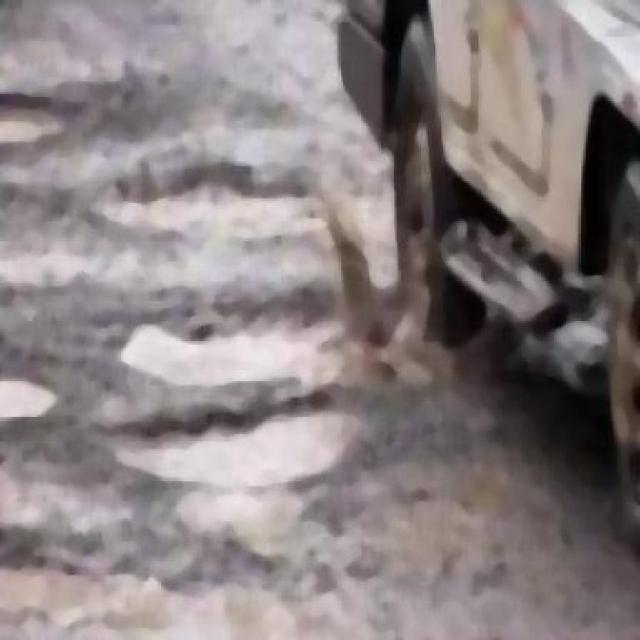Pothole: (127, 283, 351, 402), (141, 417, 368, 506), (0, 352, 65, 451)
